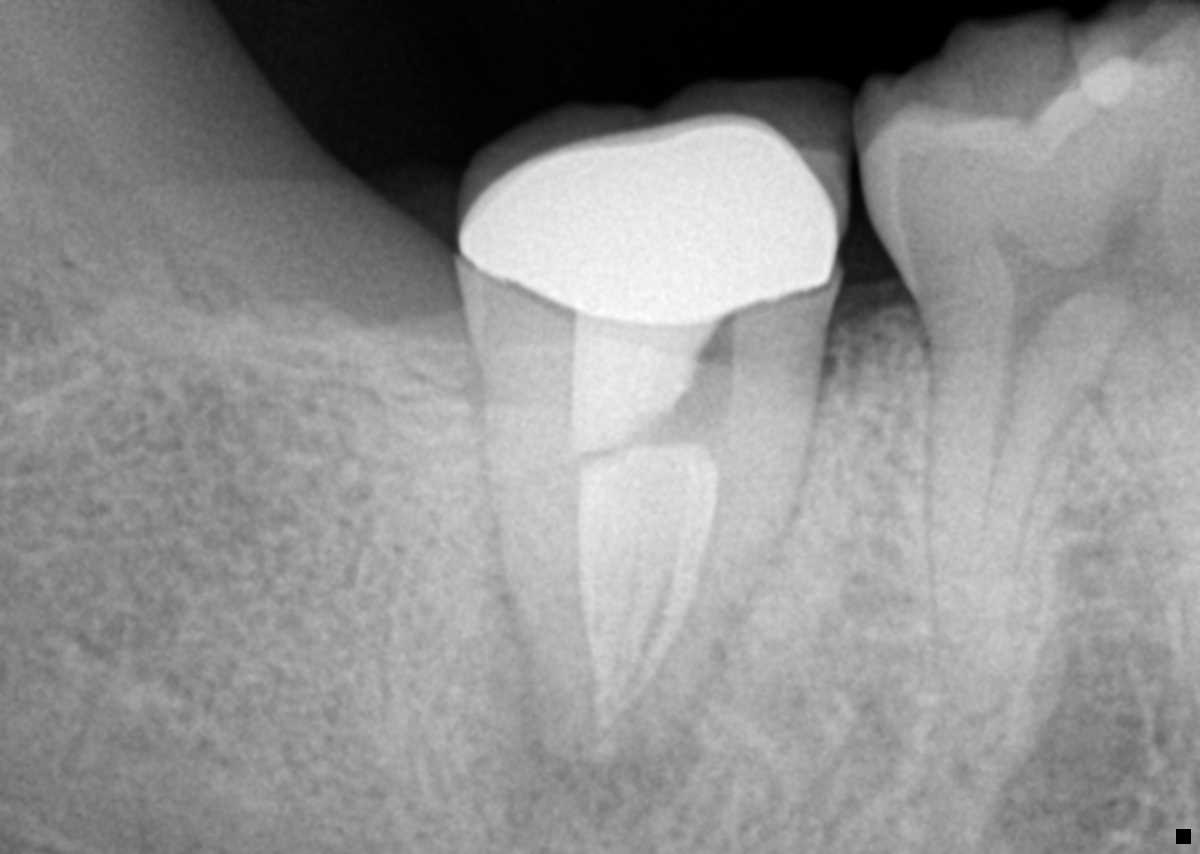Apical Lesion: (469, 603, 710, 854)
Distal Canal: (972, 361, 1013, 570)
Distal Root: (927, 336, 1088, 719)
Main Root: (478, 426, 802, 768)
Mesial Root: (1100, 312, 1200, 631)
Root Canal Filling: (580, 448, 713, 727)
